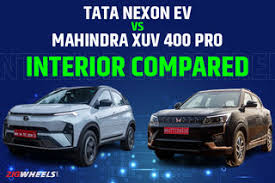XUV 400: (147, 88, 273, 168)
